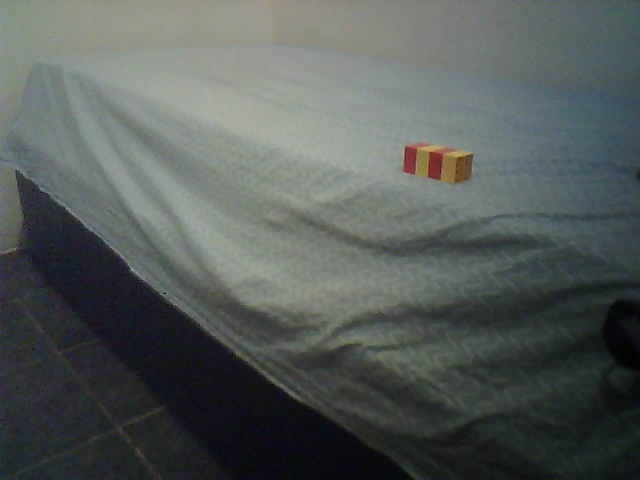lego: (402, 142, 473, 185)
